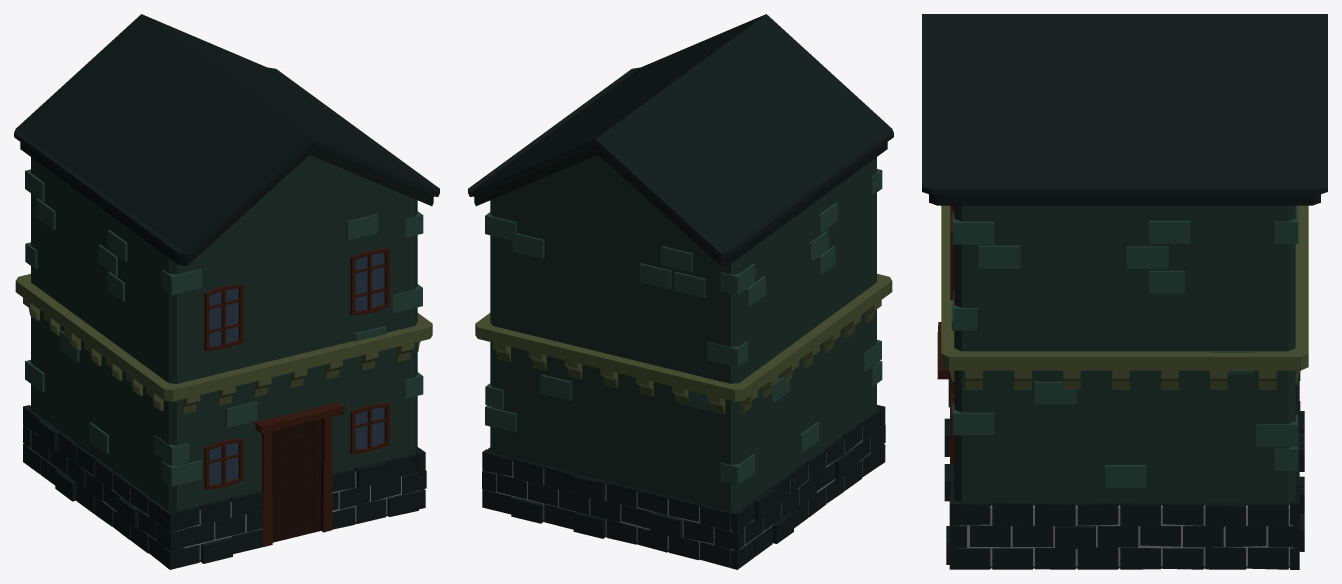
The model's file is 2Story_GableRoof.obj.
3 views of the same model, side by side, from view 1: azimuth 30°, elevation 25°; view 2: azimuth 150°, elevation 25°; view 3: azimuth 270°, elevation 25° (orthographic). The views are drawn at different scales.
Parts seen in each view (by area): view 1: 2Story_GableRoof_Mat_Cube.002; view 2: 2Story_GableRoof_Mat_Cube.002; view 3: 2Story_GableRoof_Mat_Cube.002.
Part boxes in pixels (bbox=[...]): 2Story_GableRoof_Mat_Cube.002: bbox=[14, 14, 439, 569]; 2Story_GableRoof_Mat_Cube.002: bbox=[468, 14, 893, 569]; 2Story_GableRoof_Mat_Cube.002: bbox=[922, 14, 1327, 569].
Bounding box in the file's own units: 2.16 × 3.13 × 2.38.
